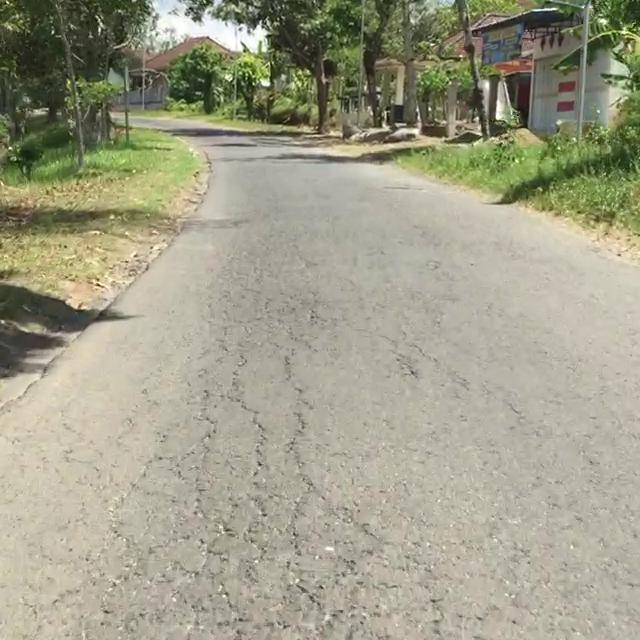retak_kulit_buaya: (114, 342, 328, 640)
